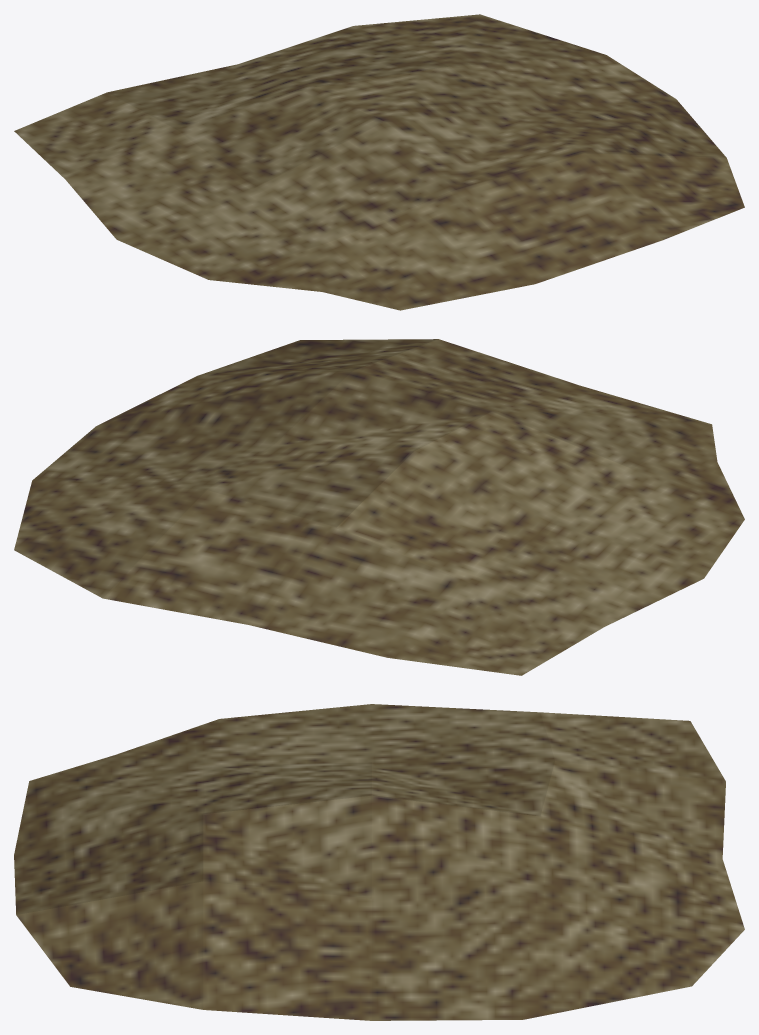
Rendered from SM_EC_Hay_Patch_3.fbx.
3 views of the same model, one above another, from view 1: azimuth 30°, elevation 25°; view 2: azimuth 150°, elevation 25°; view 3: azimuth 270°, elevation 25° (orthographic). The views are drawn at different scales.
Parts seen in each view (by area): view 1: SM_EC_Hay_Patch_3; view 2: SM_EC_Hay_Patch_3; view 3: SM_EC_Hay_Patch_3.
Part boxes in pixels (left/top/right/bottom): SM_EC_Hay_Patch_3: left=14, top=14, right=744, bottom=310; SM_EC_Hay_Patch_3: left=14, top=339, right=744, bottom=675; SM_EC_Hay_Patch_3: left=14, top=704, right=744, bottom=1020.
Size of the model in its own units: 1.52 by 1.46 by 0.1355.
